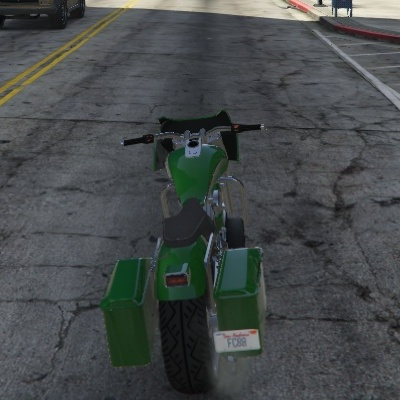off: (163, 260, 194, 292)
